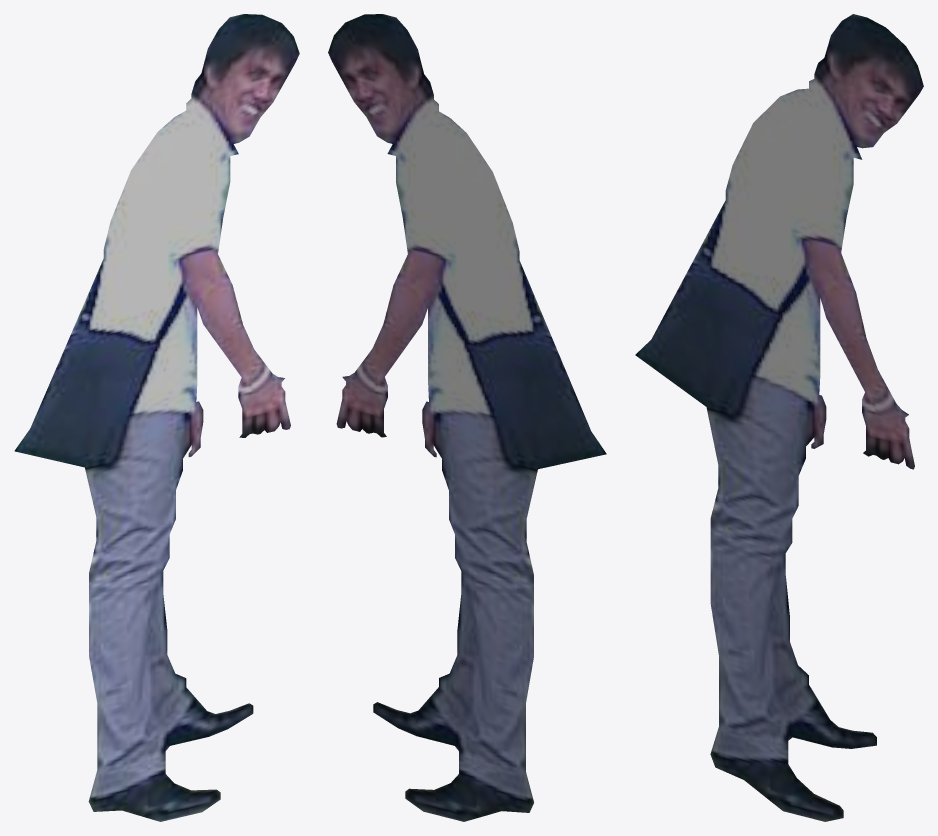
The picture shows the model from 3 angles, left to right: view 1: azimuth 30°, elevation 25°; view 2: azimuth 150°, elevation 25°; view 3: azimuth 330°, elevation 25°; orthographic projection. The views are drawn at different scales.
Parts seen in each view (by area): view 1: Component_1; view 2: Component_1; view 3: Component_1.
Part boxes in pixels (left/top/right/bottom): Component_1: left=14, top=14, right=299, bottom=821; Component_1: left=328, top=14, right=606, bottom=821; Component_1: left=635, top=14, right=923, bottom=821.
Size of the model in its own units: 51.74 by 0.9743 by 138.
Materials: 1 (1 with a texture image).
